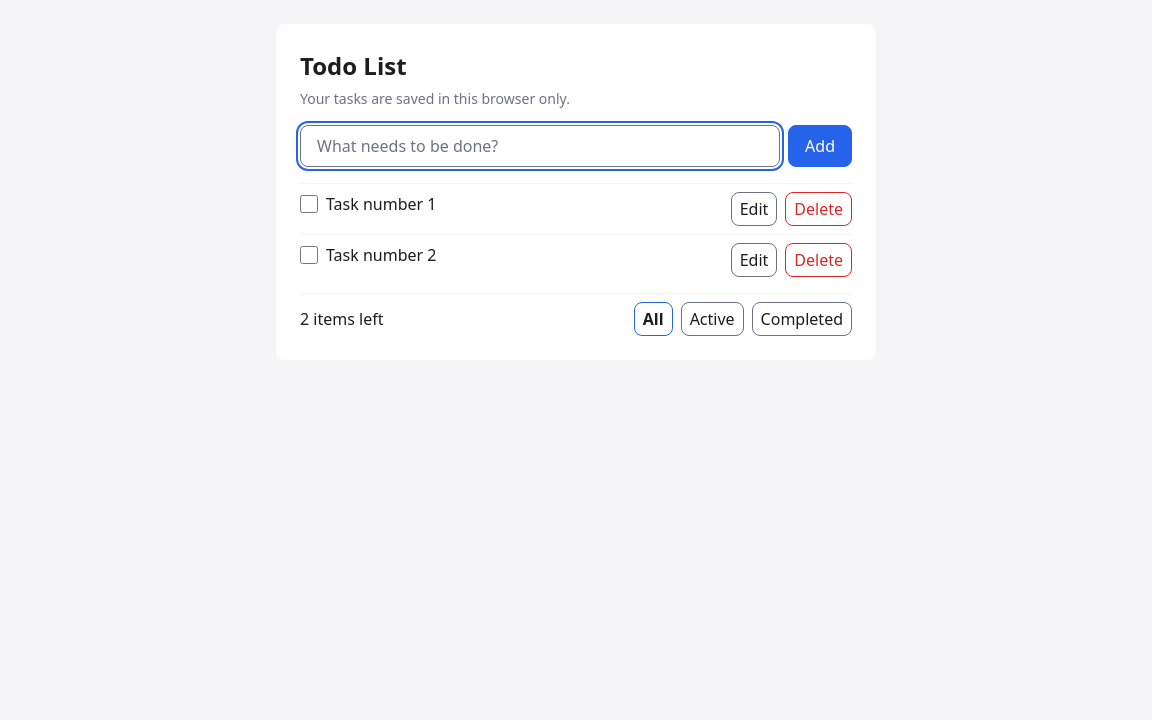
App: delete a task › keeps the removal on screen and shows the notice when the save fails (BR3.9)
The image size is (1152, 720).
Step 1. Click the button with test id "delete-button" in the row of "Task number 1" → coordinates (819, 209), box left=785, top=192, right=852, bottom=226
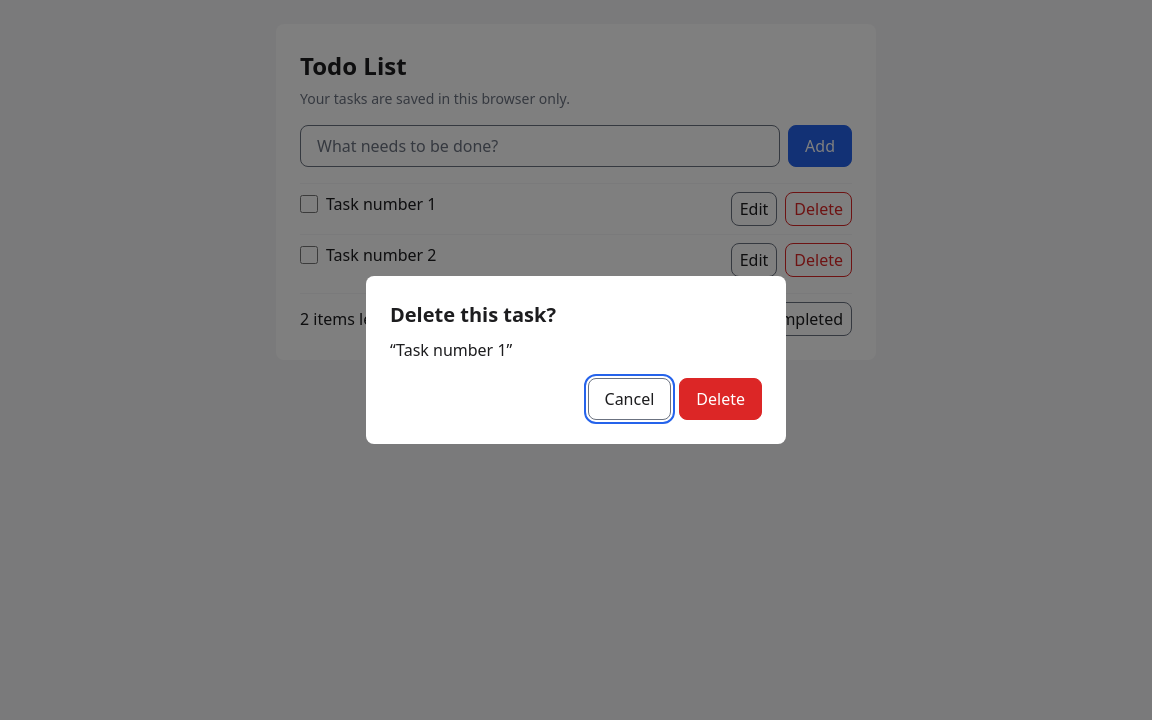
Step 2. Click the button with test id "delete-dialog-confirm" → coordinates (721, 399), box left=679, top=378, right=762, bottom=420
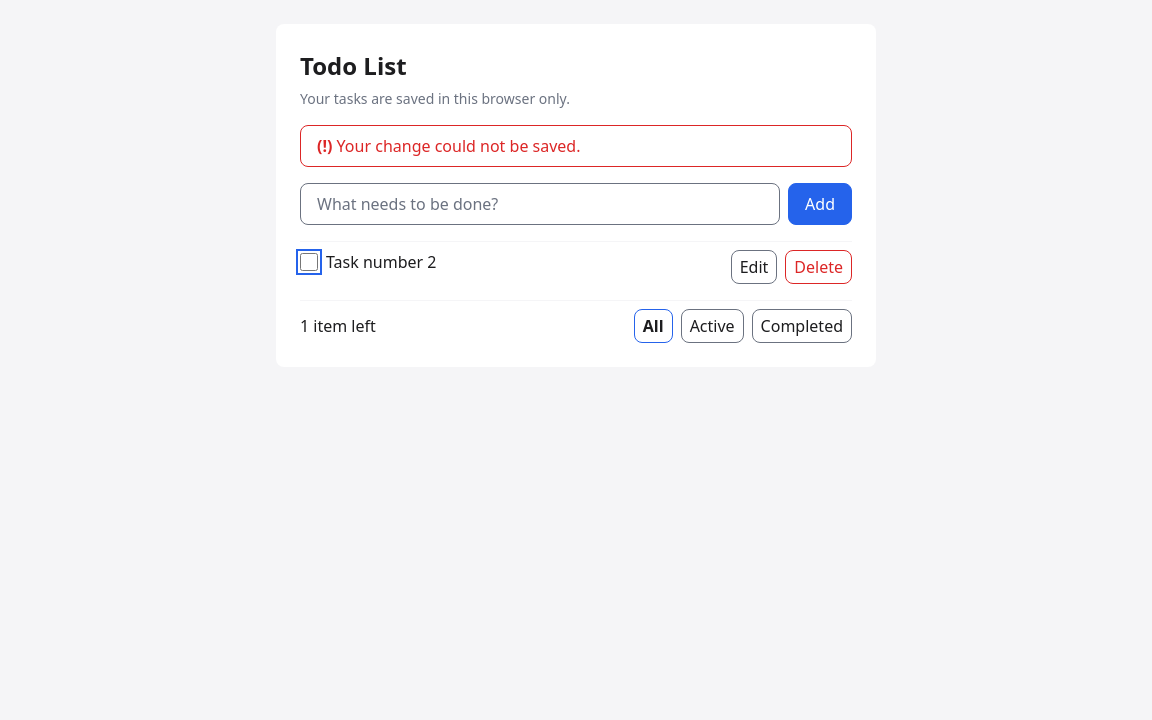
Result: the message with test id "notice" shows "Your change could not be saved." at left=337, top=135, right=580, bottom=157
